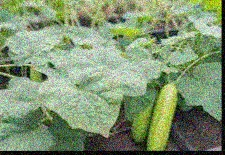cucumber: (145, 83, 178, 150)
cucumber_plant: (14, 27, 125, 134)
